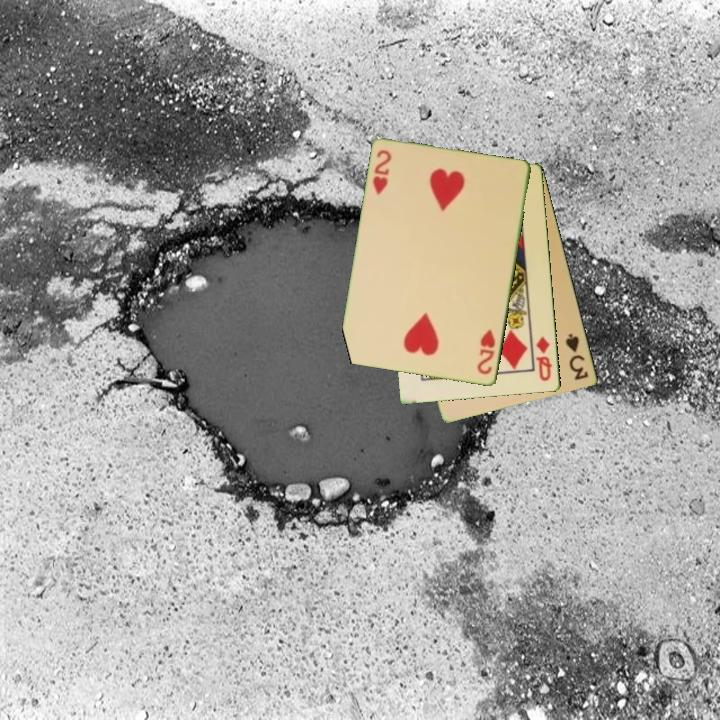2h: (370, 147, 395, 197), (474, 326, 498, 378)
3s: (562, 330, 592, 383)
Qd: (533, 333, 555, 384)
